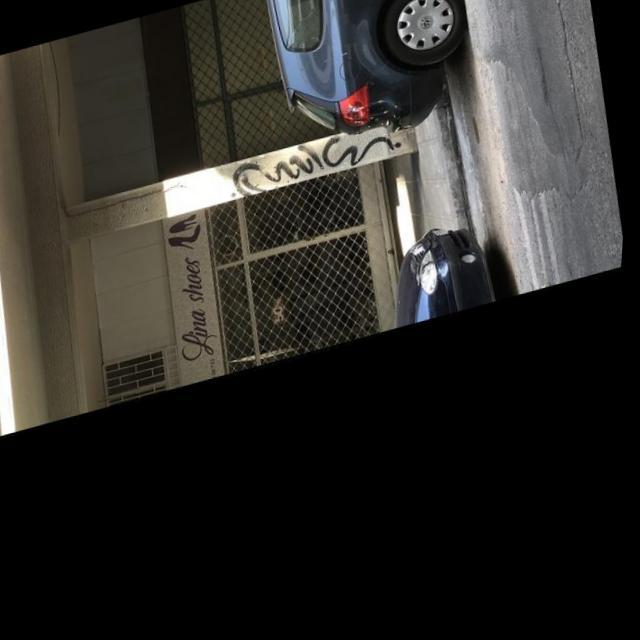-: (226, 124, 408, 206)
